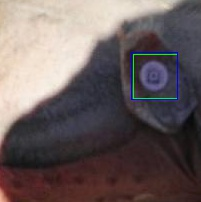text: (133, 54, 177, 98)
